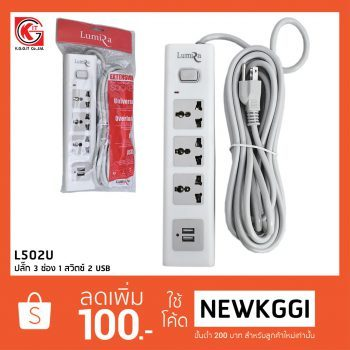Three_eye_plug: (156, 36, 230, 269), (61, 48, 104, 190)
